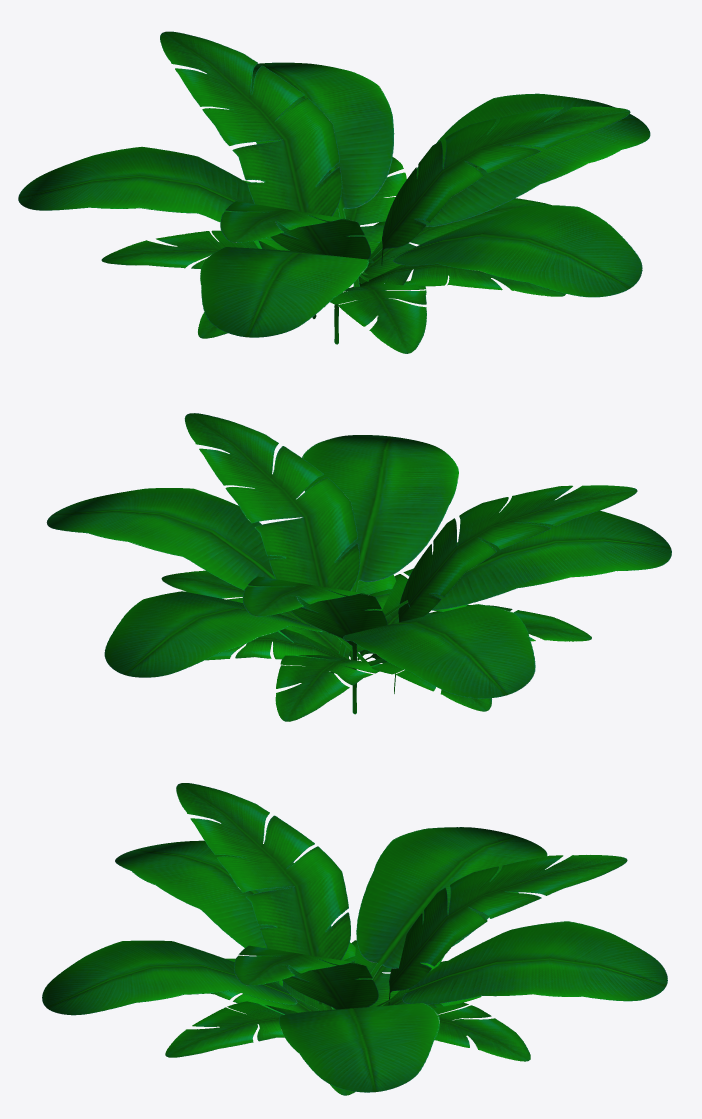
Rendered from PR_Bush_Litlle.fbx.
3 views of the same model, one above another, from view 1: azimuth 30°, elevation 25°; view 2: azimuth 150°, elevation 25°; view 3: azimuth 270°, elevation 25° (orthographic). The views are drawn at different scales.
Visible parts, largest first — view 1: Palm Leaf.037, Palm Leaf.038, Palm Leaf.039; view 2: Palm Leaf.037, Palm Leaf.038, Palm Leaf.039; view 3: Palm Leaf.037, Palm Leaf.038, Palm Leaf.039.
Part boxes in pixels (x1,y1,x2,y2): Palm Leaf.037: (18, 62, 650, 337); Palm Leaf.038: (160, 31, 630, 344); Palm Leaf.039: (101, 157, 565, 353); Palm Leaf.037: (46, 435, 671, 698); Palm Leaf.038: (184, 413, 637, 714); Palm Leaf.039: (161, 568, 591, 721); Palm Leaf.037: (42, 827, 667, 1092); Palm Leaf.038: (176, 783, 627, 1009); Palm Leaf.039: (165, 940, 530, 1095).
Size of the model in its own units: 1499 by 484 by 1531.
